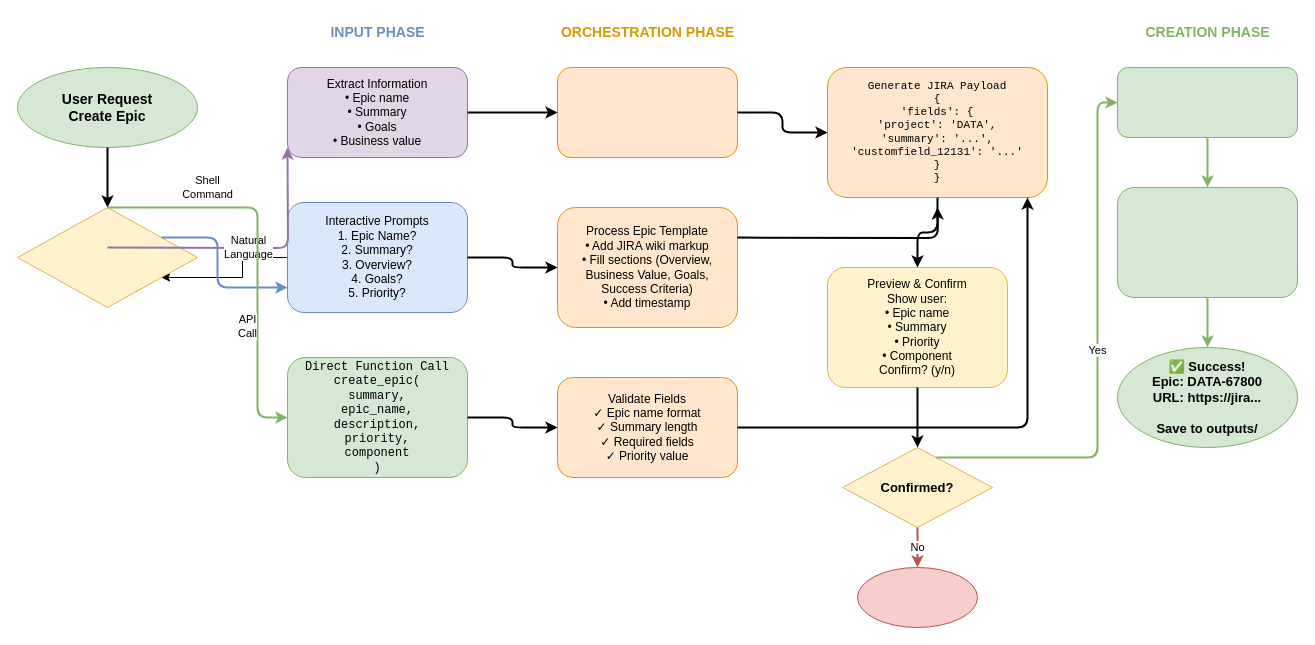
Image size: 1315x645. Some labels were removed from this diagram. Each missing label, with the centre of its shape:
"Apply Defaults • Priority: P1 • Component: DATA-BFRM • Labels: ai-generated" belongs at (647,112).
"Cancelled" belongs at (917,597).
"Input Method?" belongs at (107,257).
"JIRA Response { 'key': 'DATA-67800', 'id': '12345', 'self': '...' }" belongs at (1207,242).
"POST to JIRA API /rest/api/2/issue" belongs at (1207,102).
